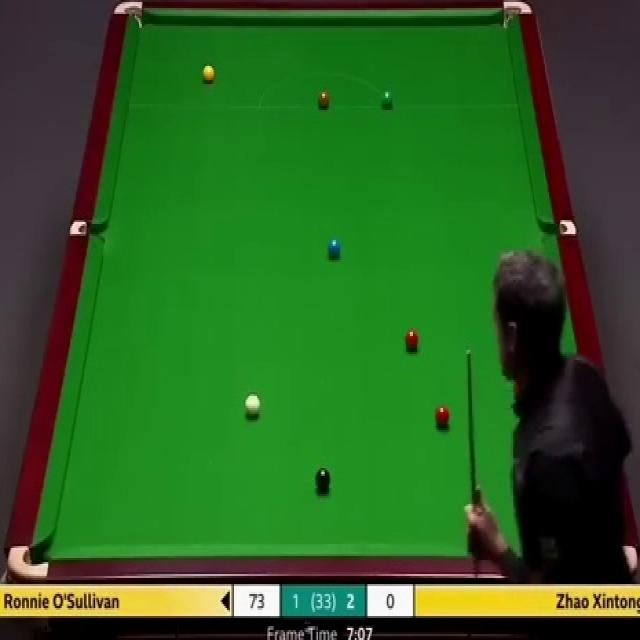black-ball: (315, 465, 331, 491)
blue-ball: (328, 236, 341, 262)
brown-ball: (317, 91, 331, 109)
green-ball: (380, 88, 395, 110)
red-ball: (404, 328, 422, 356), (433, 407, 451, 432)
white-ball: (244, 391, 260, 418)
yellow-ball: (203, 66, 215, 85)
